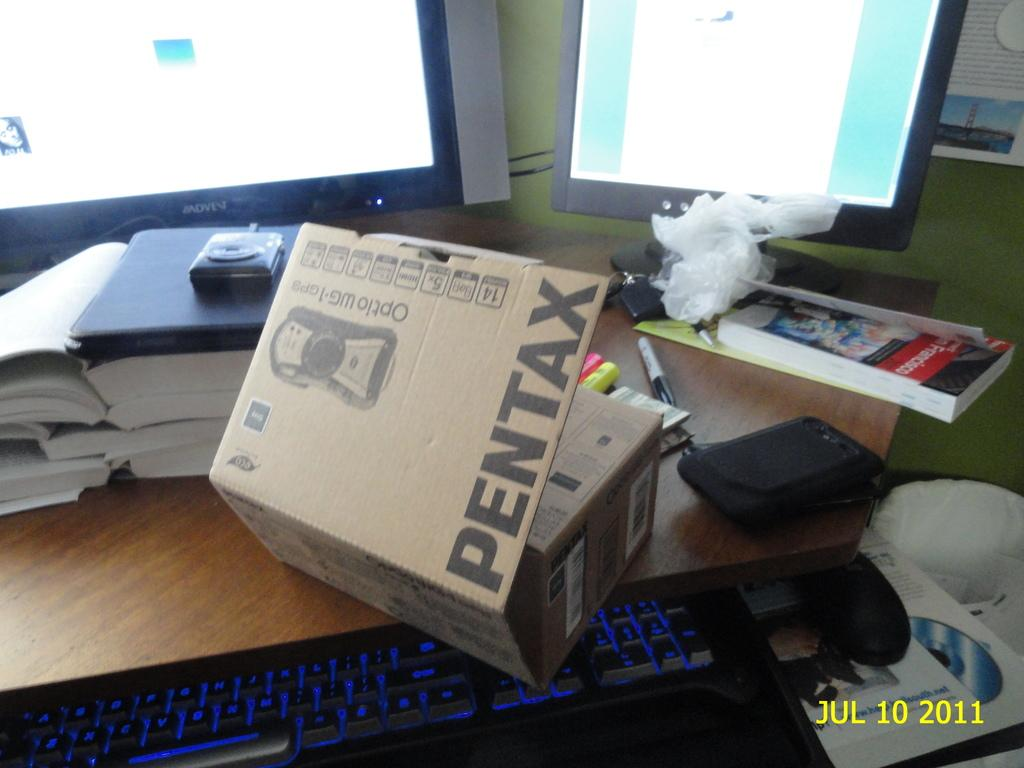Computer-keyboard: (0, 594, 727, 767)
Computer-monitor: (0, 0, 516, 285), (534, 0, 974, 266)
